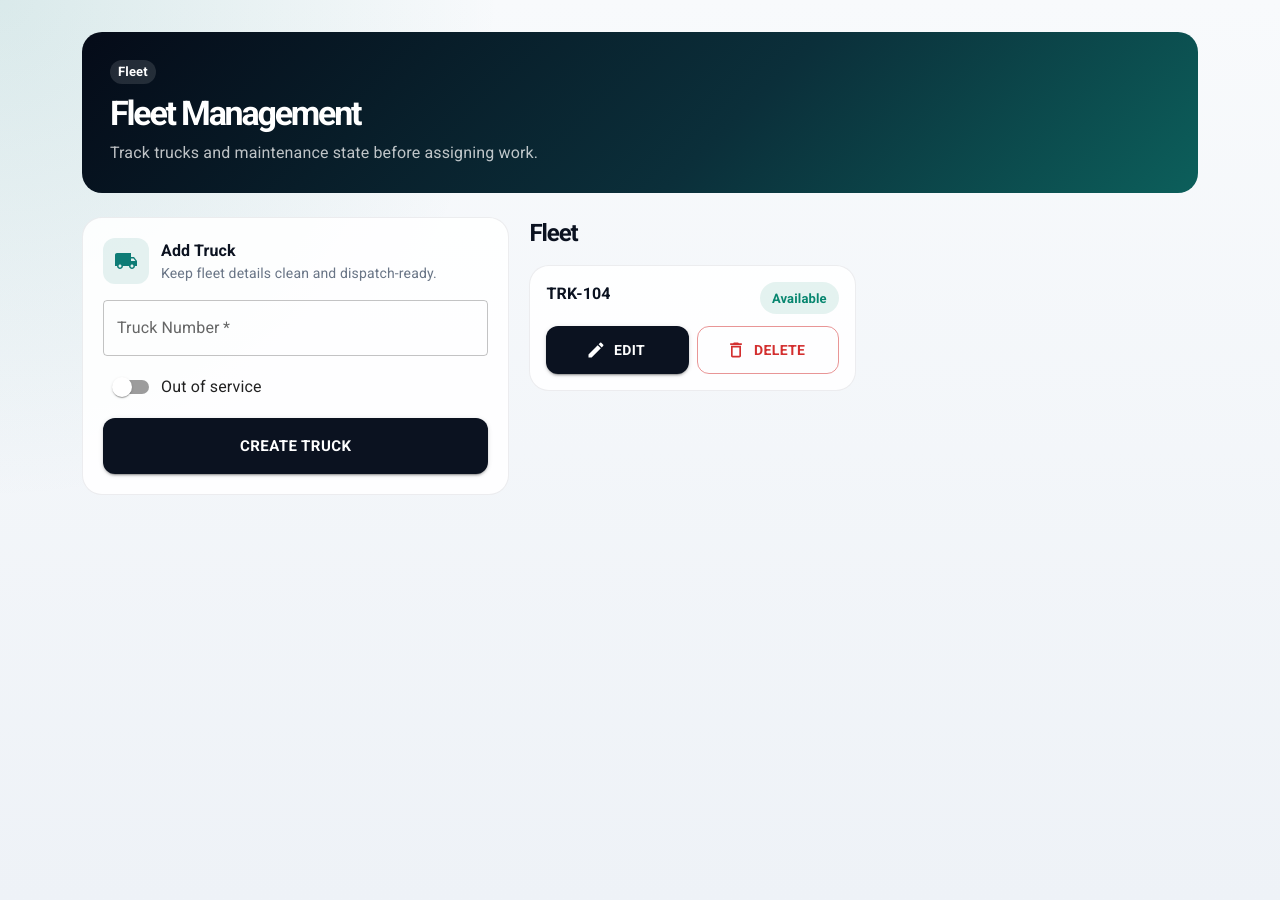
it: admin Trucks — archive (not permanent delete) wording › PASS: the confirmation dialog is labeled Delete but its body explains this archives, not permanently deletes
The width and height of the screenshot is (1280, 900).
Expected: the text "TRK-104" is shown, top-left (546, 282), bottom-right (611, 306)
Click the button "Delete". click: (768, 350)
box: top-left (697, 326), bottom-right (839, 374)
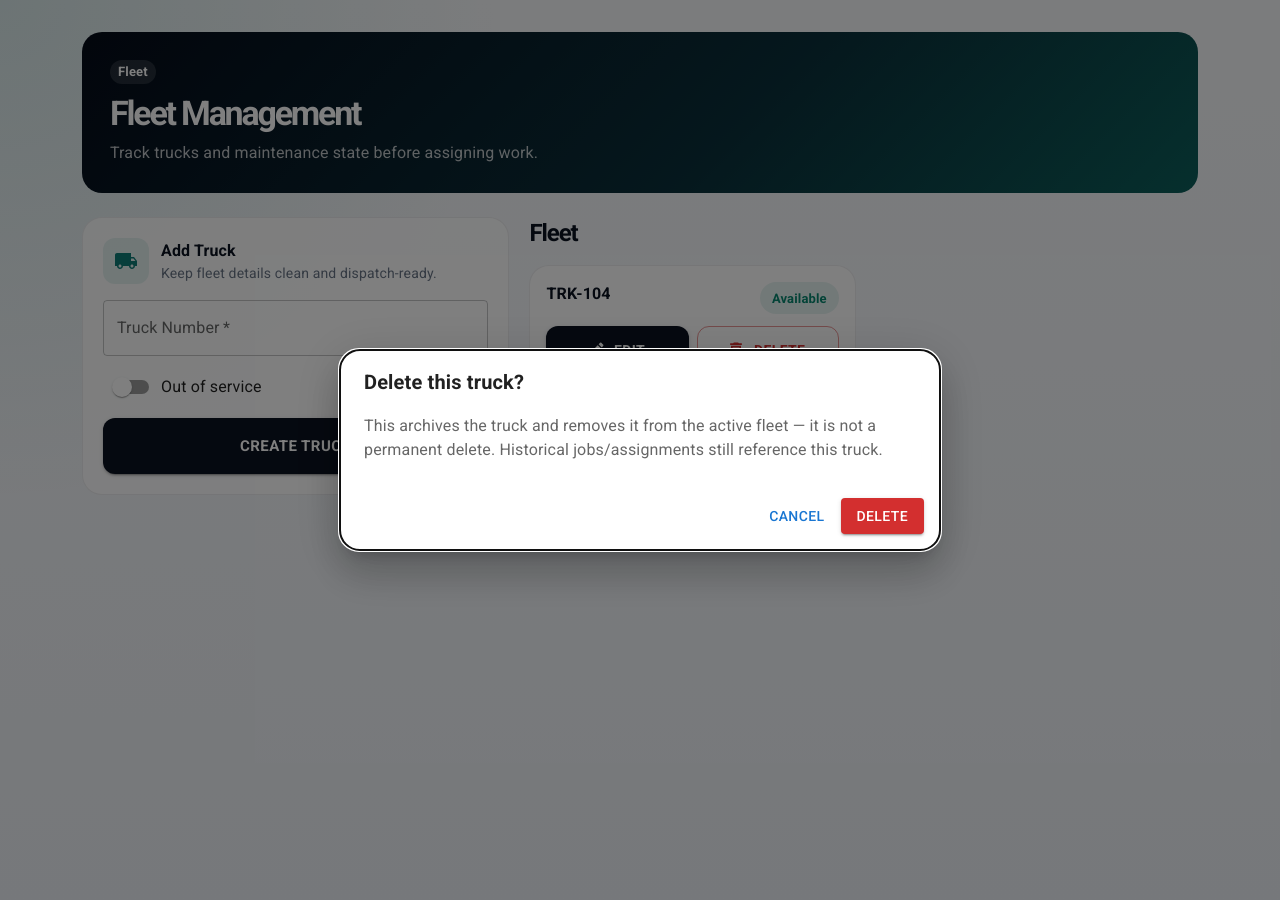
Result: the heading "Delete this truck?" is shown at top-left (364, 370), bottom-right (524, 394)
Result: the text "not a permanent delete" is shown at top-left (364, 416), bottom-right (883, 459)
Result: the dialog is shown at top-left (340, 350), bottom-right (940, 550)
